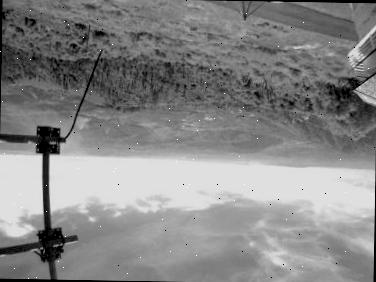smoke: (63, 114, 90, 154)
